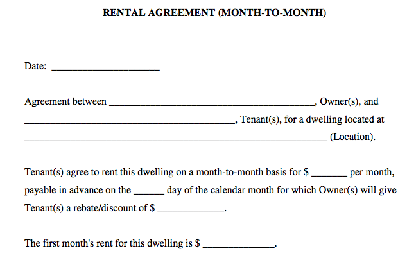textline: (107, 83, 318, 109), (21, 127, 329, 144), (22, 108, 238, 126), (49, 53, 162, 74), (201, 232, 278, 251), (157, 200, 227, 215), (309, 163, 351, 180), (132, 183, 166, 197)
